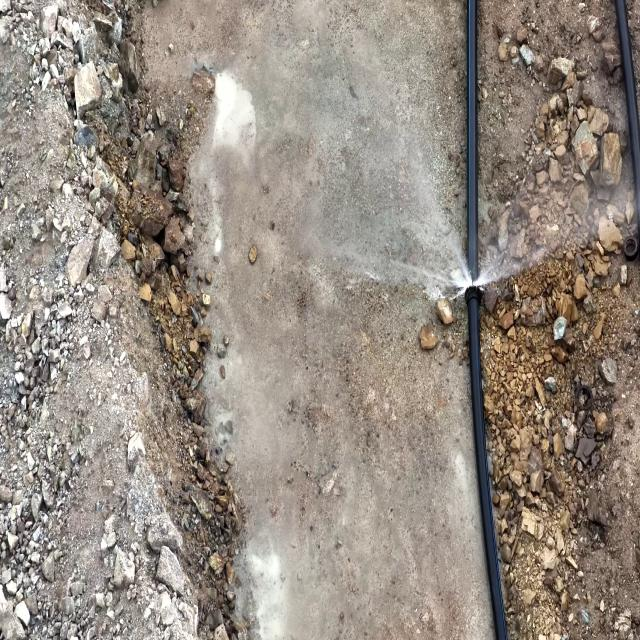leak: (352, 150, 580, 310)
